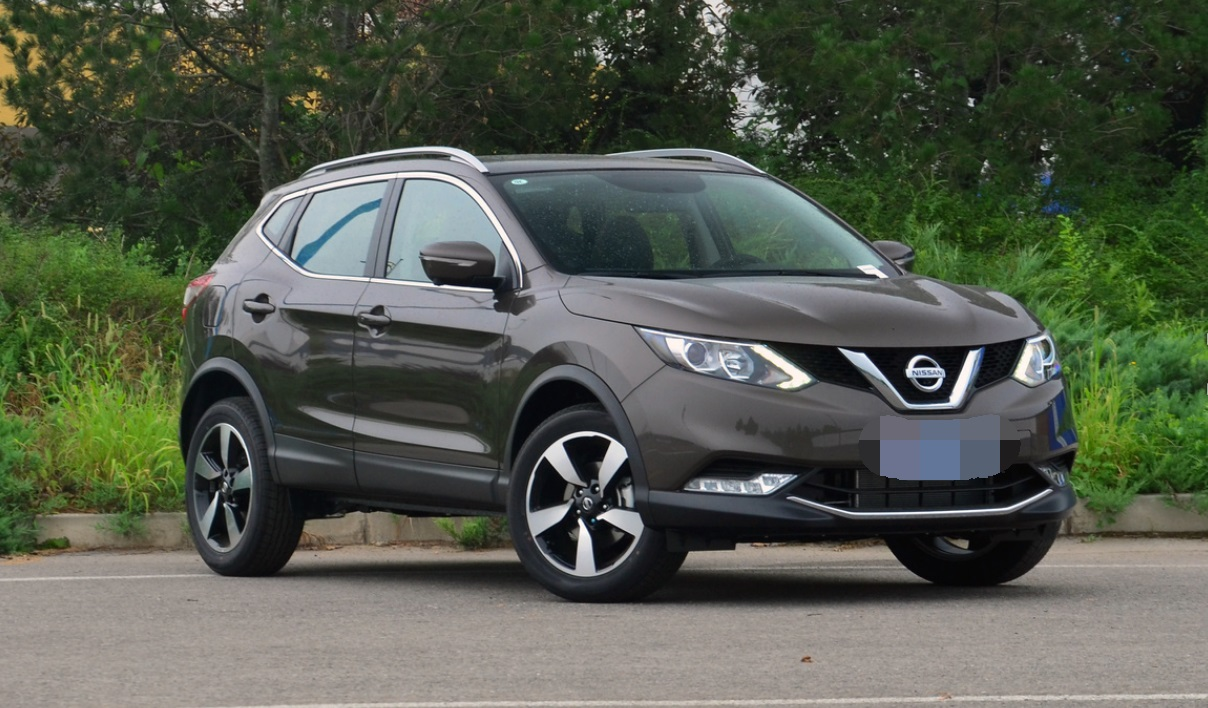SUV: (174, 142, 1085, 603)
